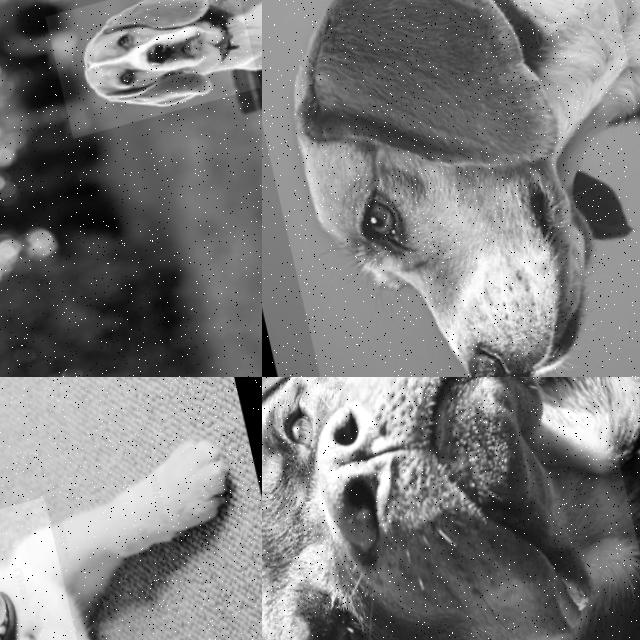beagle: (262, 0, 640, 377), (42, 0, 258, 141)
husky: (0, 497, 128, 640)
rottweiler: (262, 377, 640, 640)
